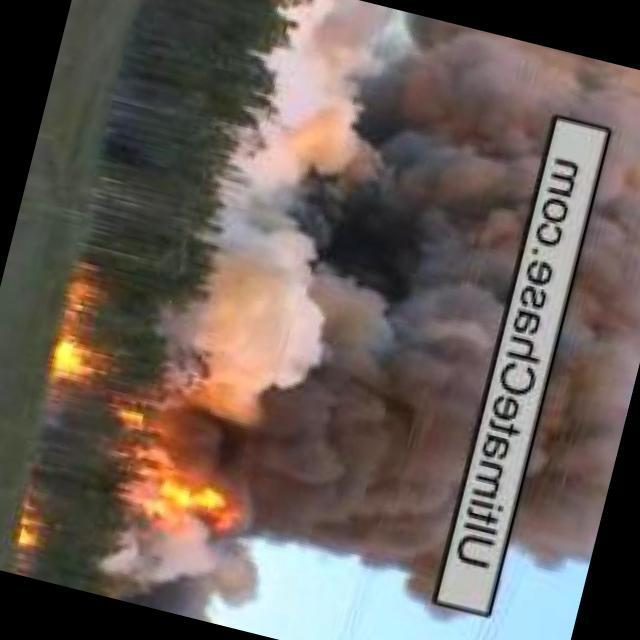Fire: (111, 429, 270, 548), (45, 269, 138, 392), (14, 494, 62, 561)
